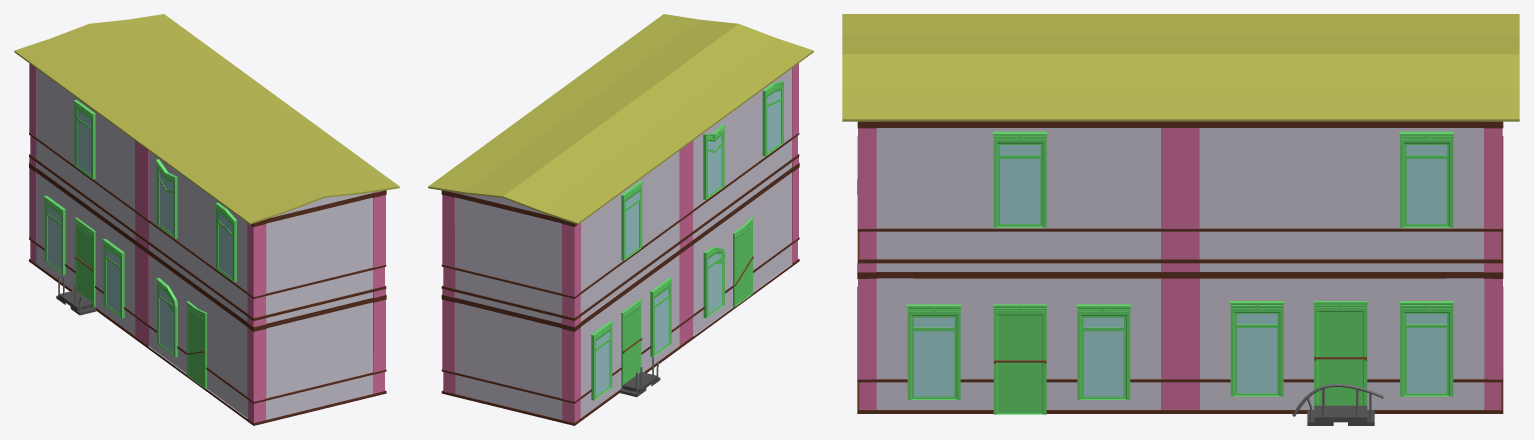
The model's file is House_structure_00_V2.fbx.
3 renders of one model, left to right at view 1: azimuth 30°, elevation 25°; view 2: azimuth 150°, elevation 25°; view 3: azimuth 270°, elevation 25°, orthographic. The views are drawn at different scales.
Parts seen in each view (by area): view 1: House_structure_00.022; view 2: House_structure_00.022; view 3: House_structure_00.022.
Part boxes in pixels (x1,y1,x2,y2): House_structure_00.022: [14, 14, 399, 425]; House_structure_00.022: [428, 14, 813, 425]; House_structure_00.022: [842, 14, 1519, 425].
Size of the model in its own units: 503 by 624 by 1224.
